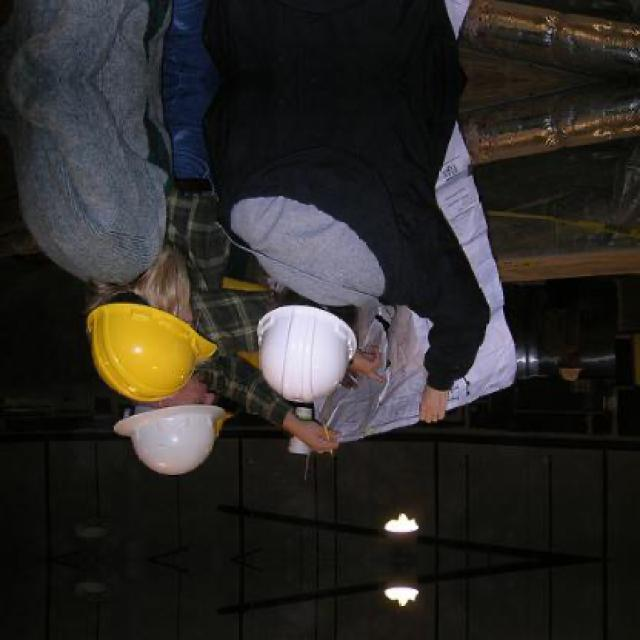con casco: (80, 311, 216, 406), (259, 281, 360, 404), (125, 389, 242, 479)
